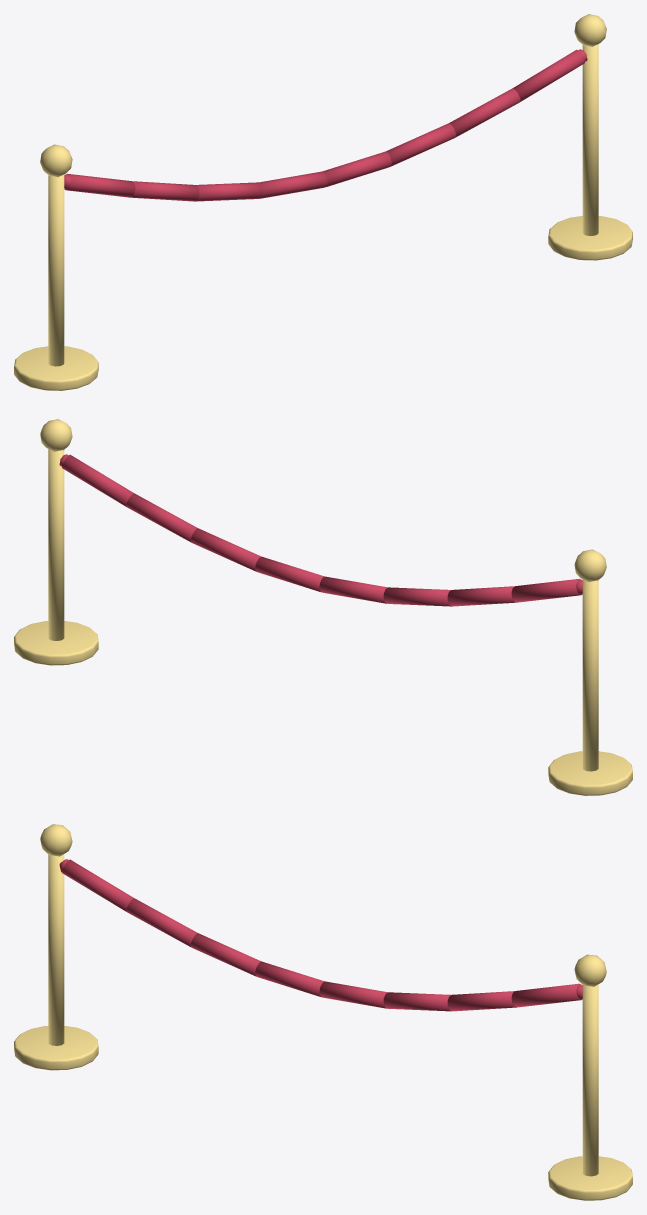
File: pc_rope.glb
3 views of the same model, one above another, from view 1: azimuth 30°, elevation 25°; view 2: azimuth 150°, elevation 25°; view 3: azimuth 330°, elevation 25° (orthographic).
Visible parts, largest first — view 1: pc_rope; view 2: pc_rope; view 3: pc_rope.
Part boxes in pixels (bbox=[...]): pc_rope: bbox=[14, 14, 632, 390]; pc_rope: bbox=[14, 419, 632, 795]; pc_rope: bbox=[14, 824, 632, 1200].
Bounding box in the file's own units: 2.96 × 1.06 × 0.36.
